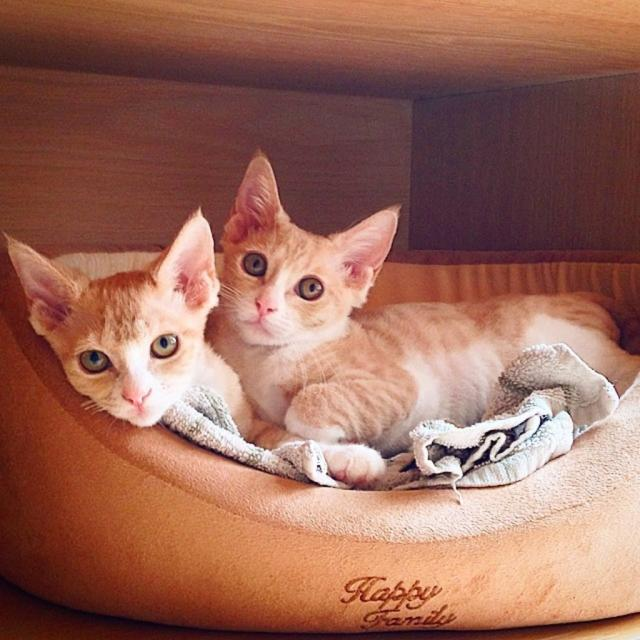Cat: (206, 150, 638, 458), (0, 202, 384, 486)
